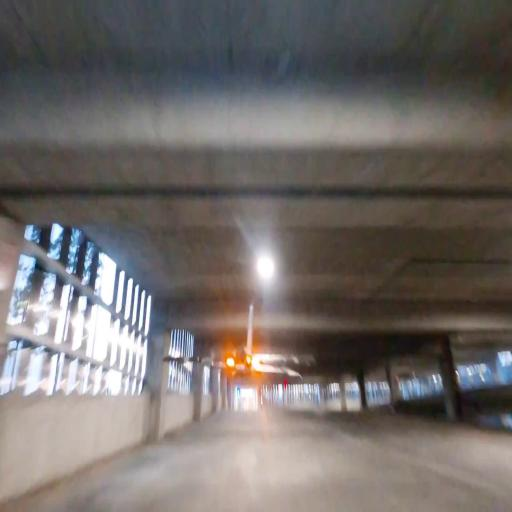uav: (160, 293, 318, 386)
